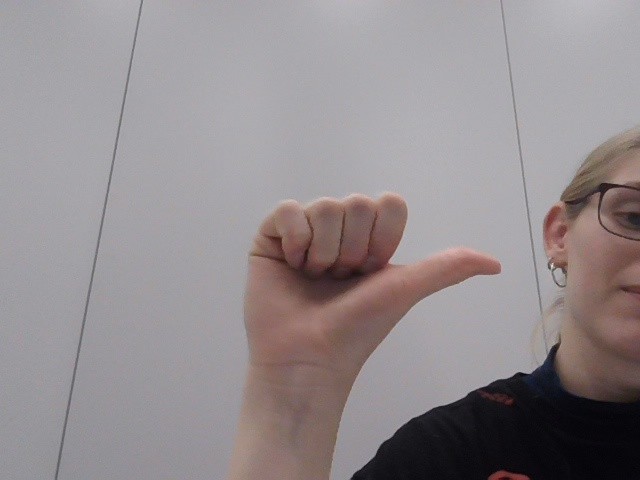left: (186, 108, 516, 438)
